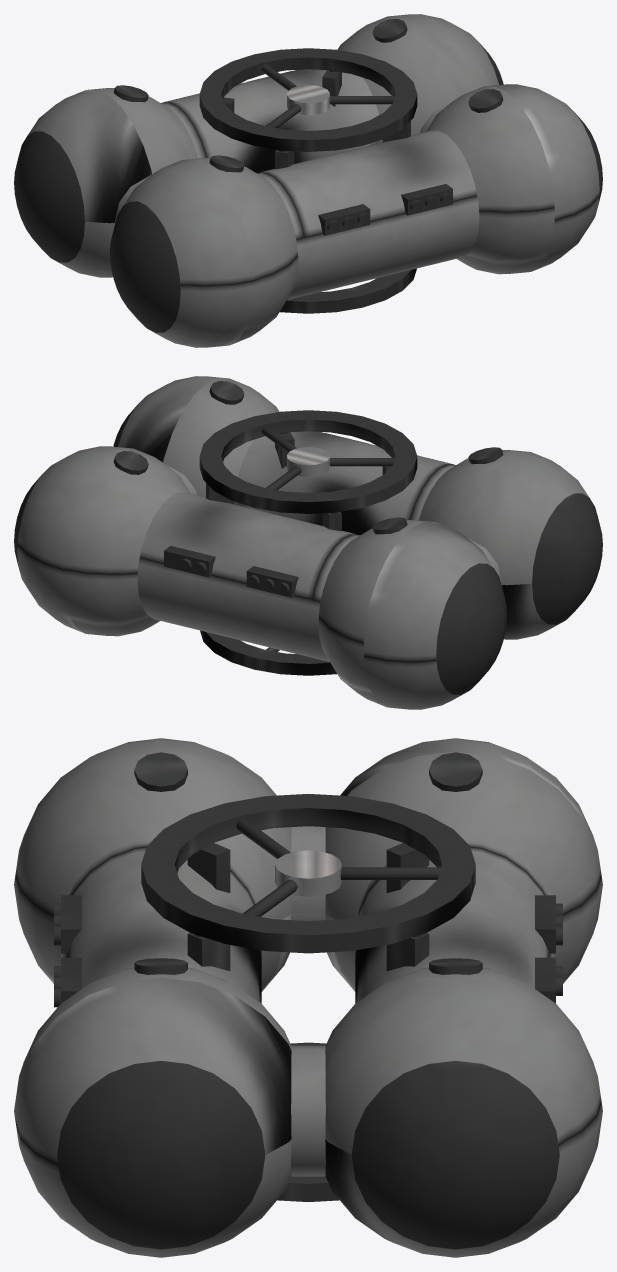
The model's file is 0tank_2sides.obj.
The picture shows the model from 3 angles, top to bottom: view 1: azimuth 30°, elevation 25°; view 2: azimuth 150°, elevation 25°; view 3: azimuth 270°, elevation 25°; orthographic projection. The views are drawn at different scales.
Visible parts, largest first — view 1: 1; view 2: 1; view 3: 1.
Part boxes in pixels (box(x1,y1,x2,y2)): 1: box(14, 14, 602, 347); 1: box(14, 376, 602, 709); 1: box(14, 738, 602, 1257).
Size of the model in its own units: 1.55 by 0.5596 by 1.1.
